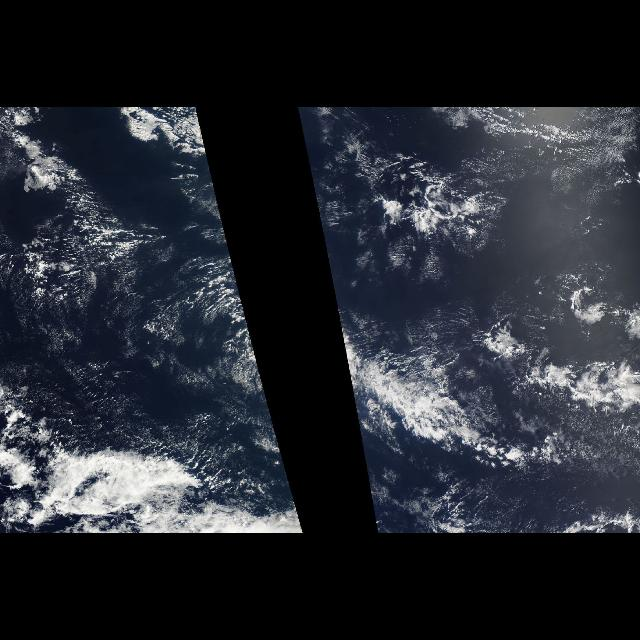Fish: (336, 308, 636, 470)
